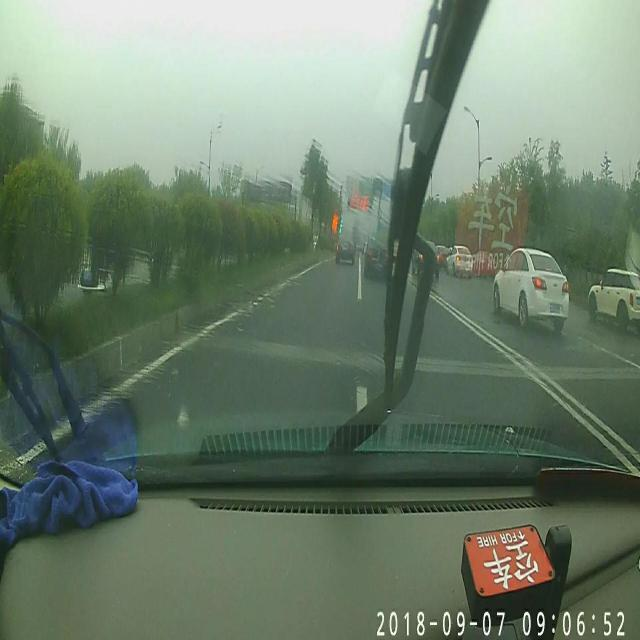car: (490, 244, 572, 328), (584, 265, 640, 326), (445, 241, 473, 278), (336, 233, 356, 266)
